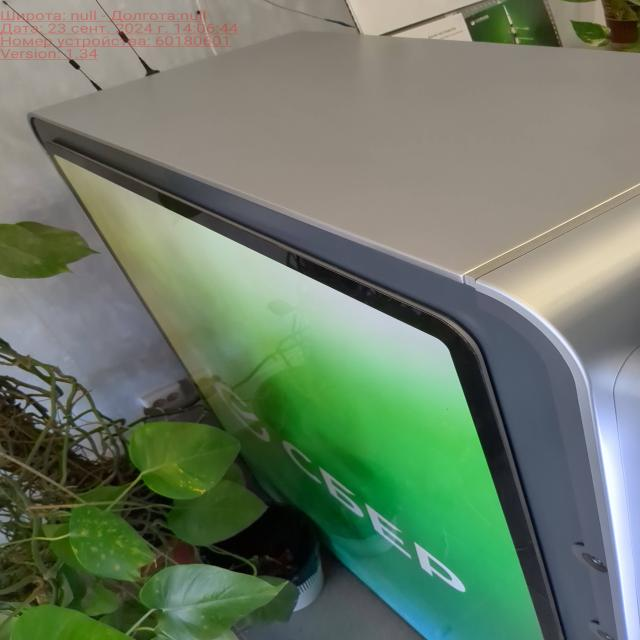bank: (31, 17, 640, 639)
